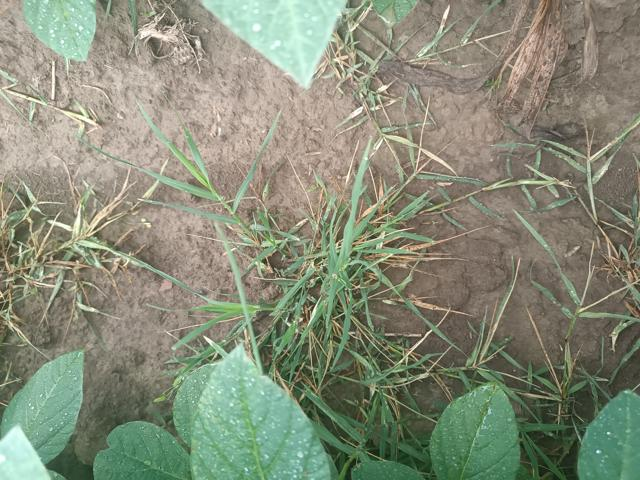bad weed: (136, 104, 442, 383), (487, 121, 637, 406), (0, 166, 150, 352)
